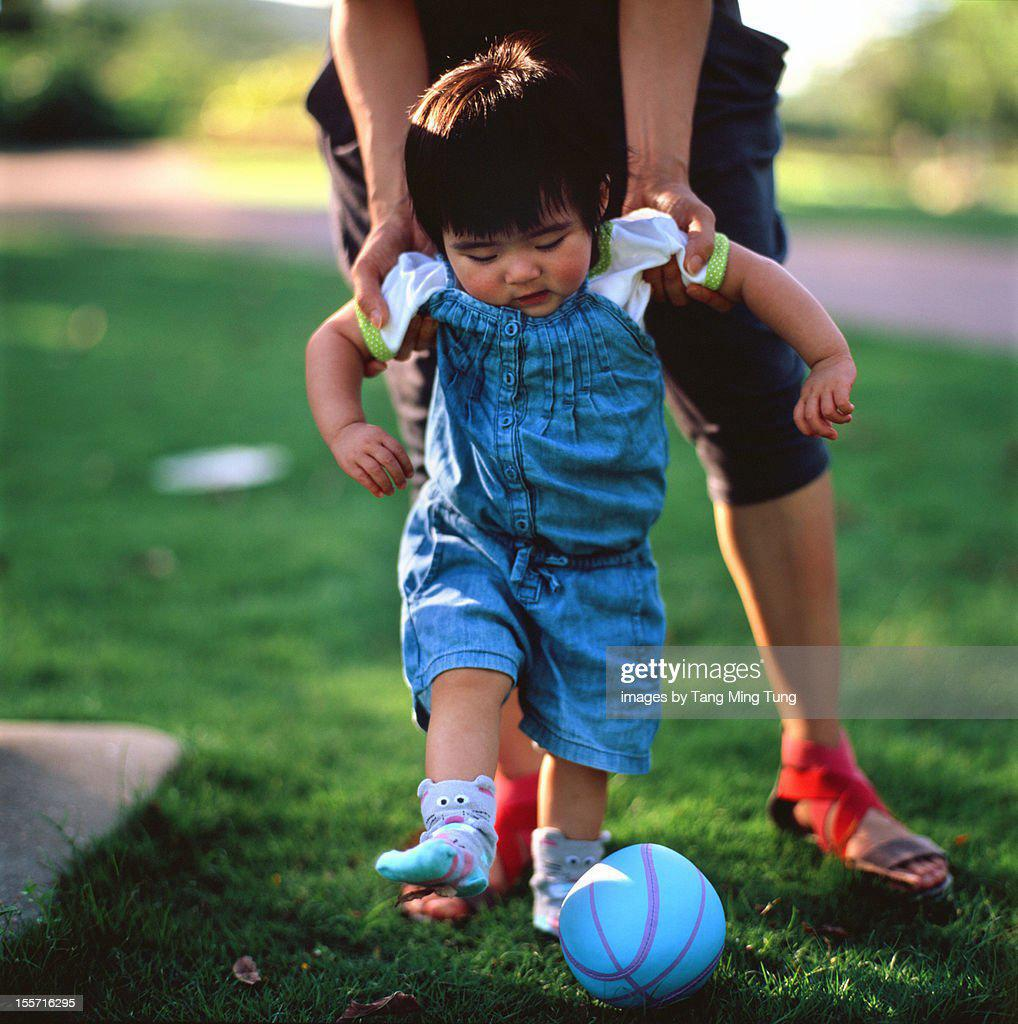child: (253, 42, 886, 934)
